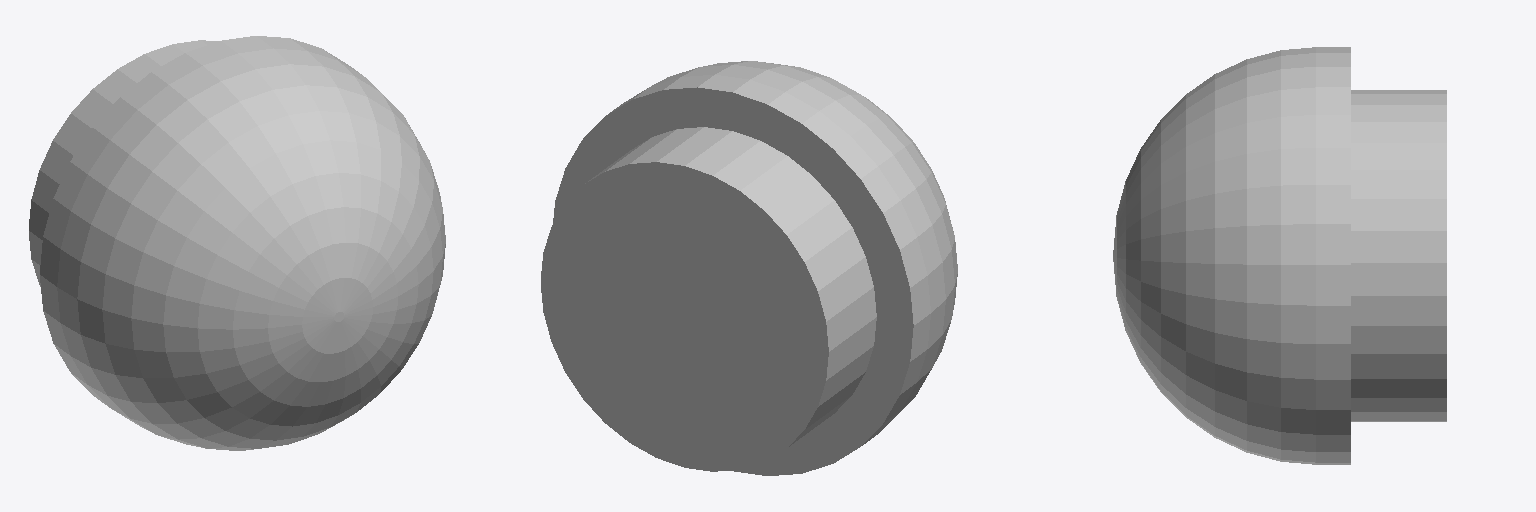
The model's file is bumper.obj.
The picture shows the model from 3 angles: view 1: azimuth 30°, elevation 25°; view 2: azimuth 150°, elevation 25°; view 3: azimuth 270°, elevation 25°; orthographic projection.
Visible parts, largest first — view 1: Cylinder; view 2: Cylinder; view 3: Cylinder.
Part boxes in pixels (x1,y1,x2,y2): Cylinder: (29,36,445,450); Cylinder: (541,61,957,475); Cylinder: (1113,47,1446,464).
Size of the model in its own units: 2.51 by 2.51 by 2.